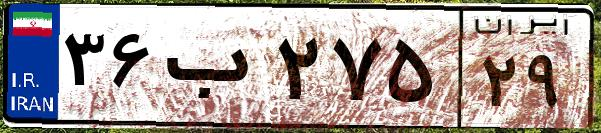2: (270, 28, 330, 110), (475, 38, 525, 113)
3: (57, 26, 110, 100)
5: (385, 28, 445, 110)
6: (110, 28, 158, 98)
7: (330, 28, 385, 110)
9: (525, 38, 570, 115)
ب: (158, 20, 270, 120)
